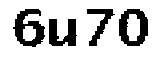0: (117, 5, 153, 51)
6: (12, 6, 46, 49)
7: (84, 4, 114, 48)
u: (46, 14, 80, 49)
